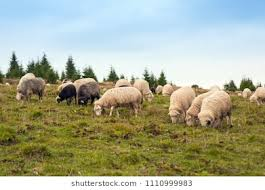sheep: (92, 87, 141, 120), (197, 90, 234, 128), (16, 77, 47, 103), (167, 85, 186, 126), (54, 84, 79, 109), (134, 77, 157, 104), (76, 81, 100, 105), (248, 84, 265, 103), (113, 78, 133, 89), (239, 84, 251, 101), (163, 83, 174, 96), (154, 83, 162, 95)
